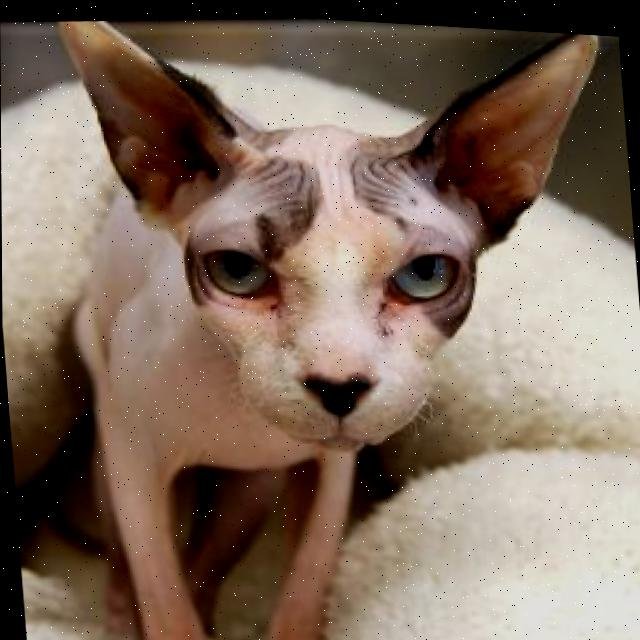Sphynx: (18, 1, 640, 640)
